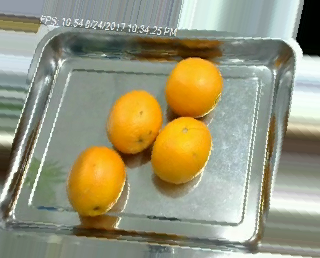Orange: (67, 145, 126, 216), (150, 116, 211, 183), (165, 56, 223, 118), (106, 89, 161, 153)
